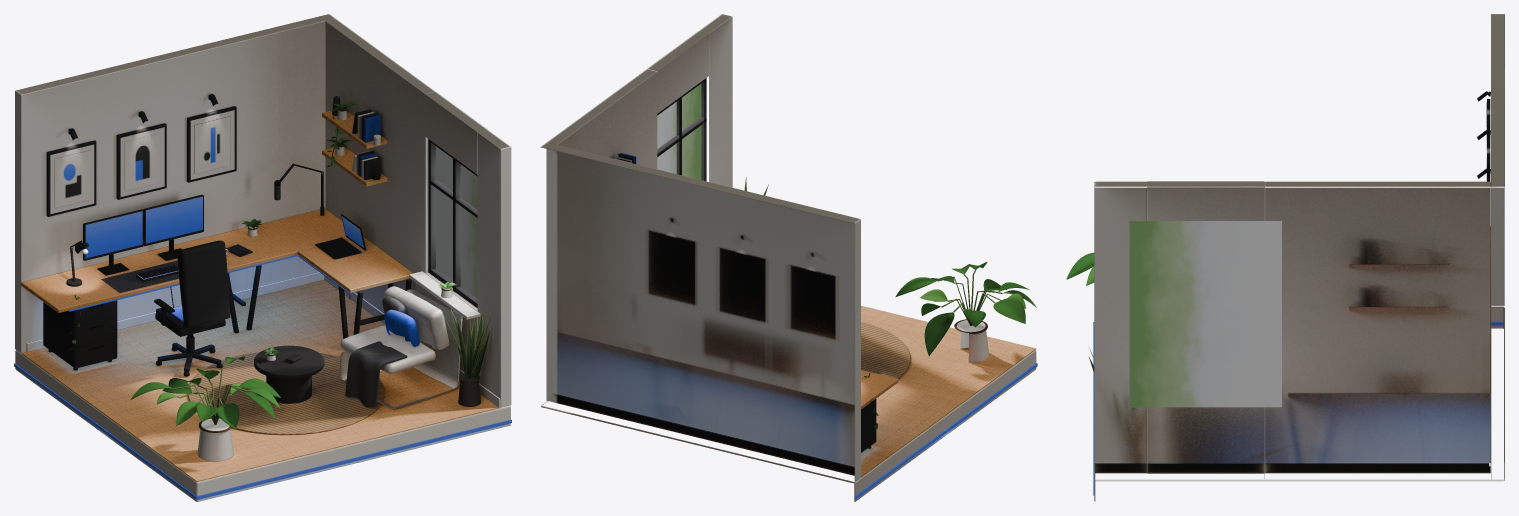
The model's file is studio.gltf.
The picture shows the model from 3 angles, left to right: view 1: azimuth 30°, elevation 25°; view 2: azimuth 150°, elevation 25°; view 3: azimuth 270°, elevation 25°; orthographic projection. The views are drawn at different scales.
Parts seen in each view (by area): view 1: studio; view 2: studio; view 3: studio.
Part boxes in pixels (x1,y1,x2,y2): studio: (14,14,511,501); studio: (540,14,1037,501); studio: (1066,14,1504,501).
Bounding box in the file's own units: 3.85 × 2.96 × 3.74.
1 material, 1 textured.
